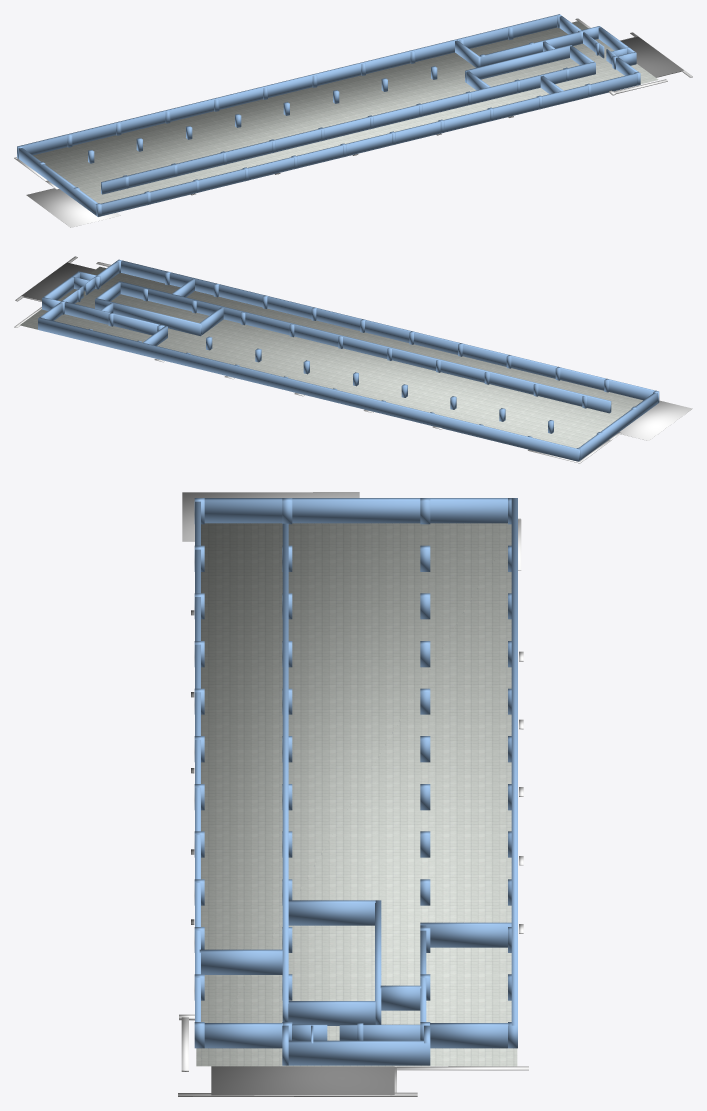
Rendered from whfa_-1f_mini.gltf.
3 views of the same model, one above another, from view 1: azimuth 30°, elevation 25°; view 2: azimuth 150°, elevation 25°; view 3: azimuth 270°, elevation 25° (orthographic). The views are drawn at different scales.
Visible parts, largest first — view 1: whfa_dimian_b1f, whfa_qiang_b1f_57, whfa_qiang_b1f_55, whfa_qiang_b1f_56, whfa_waiguan_b1_6, whfa_qiang_b1f_51, whfa_qiang_b1f_46, whfa_waiguan_b1_10, whfa_qiang_b1f_52, whfa_qiang_b1f_64, whfa_qiang_b1f_53; view 2: whfa_dimian_b1f, whfa_qiang_b1f_55, whfa_qiang_b1f_57, whfa_qiang_b1f_56, whfa_waiguan_b1_6, whfa_qiang_b1f_51, whfa_qiang_b1f_52, whfa_qiang_b1f_46, whfa_waiguan_b1_10, whfa_qiang_b1f_64; view 3: whfa_dimian_b1f, whfa_qiang_b1f_46, whfa_waiguan_b1_10, whfa_qiang_b1f_55, whfa_qiang_b1f_64, whfa_qiang_b1f_56, whfa_qiang_b1f_57, whfa_qiang_b1f_49, whfa_qiang_b1f_48, whfa_qiang_b1f_50, whfa_qiang_b1f_53, whfa_qiang_b1f_67 (+4 smaller).
Part boxes in pixels (x1,y1,x2,y2): whfa_dimian_b1f: (33,21,658,203); whfa_qiang_b1f_57: (96,73,636,216); whfa_qiang_b1f_55: (17,14,560,158); whfa_qiang_b1f_56: (101,62,595,194); whfa_waiguan_b1_6: (26,188,120,227); whfa_qiang_b1f_51: (465,45,571,82); whfa_qiang_b1f_46: (18,148,97,215); whfa_waiguan_b1_10: (621,36,683,77); whfa_qiang_b1f_52: (479,32,580,66); whfa_qiang_b1f_64: (598,27,634,53); whfa_qiang_b1f_53: (455,40,480,67); whfa_dimian_b1f: (20,266,642,448); whfa_qiang_b1f_55: (38,317,580,461); whfa_qiang_b1f_57: (121,260,659,403); whfa_qiang_b1f_56: (118,281,611,413); whfa_waiguan_b1_6: (620,400,692,440); whfa_qiang_b1f_51: (95,298,201,336); whfa_qiang_b1f_52: (64,301,164,335); whfa_qiang_b1f_46: (579,392,657,460); whfa_waiguan_b1_10: (21,262,95,300); whfa_qiang_b1f_64: (44,272,79,300); whfa_dimian_b1f: (196,523,517,1066); whfa_qiang_b1f_46: (204,498,507,523); whfa_waiguan_b1_10: (211,1066,394,1095); whfa_qiang_b1f_55: (511,498,517,1025); whfa_qiang_b1f_64: (288,1040,430,1065); whfa_qiang_b1f_56: (282,523,288,1021); whfa_qiang_b1f_57: (195,501,200,1021); whfa_qiang_b1f_49: (288,900,375,925); whfa_qiang_b1f_48: (199,949,282,974); whfa_qiang_b1f_50: (288,1001,375,1025); whfa_qiang_b1f_53: (420,922,511,947); whfa_qiang_b1f_67: (204,1023,282,1048).
Bounding box in the file's own units: 353 × 6.73 × 86.62.
5 materials, 1 textured.
